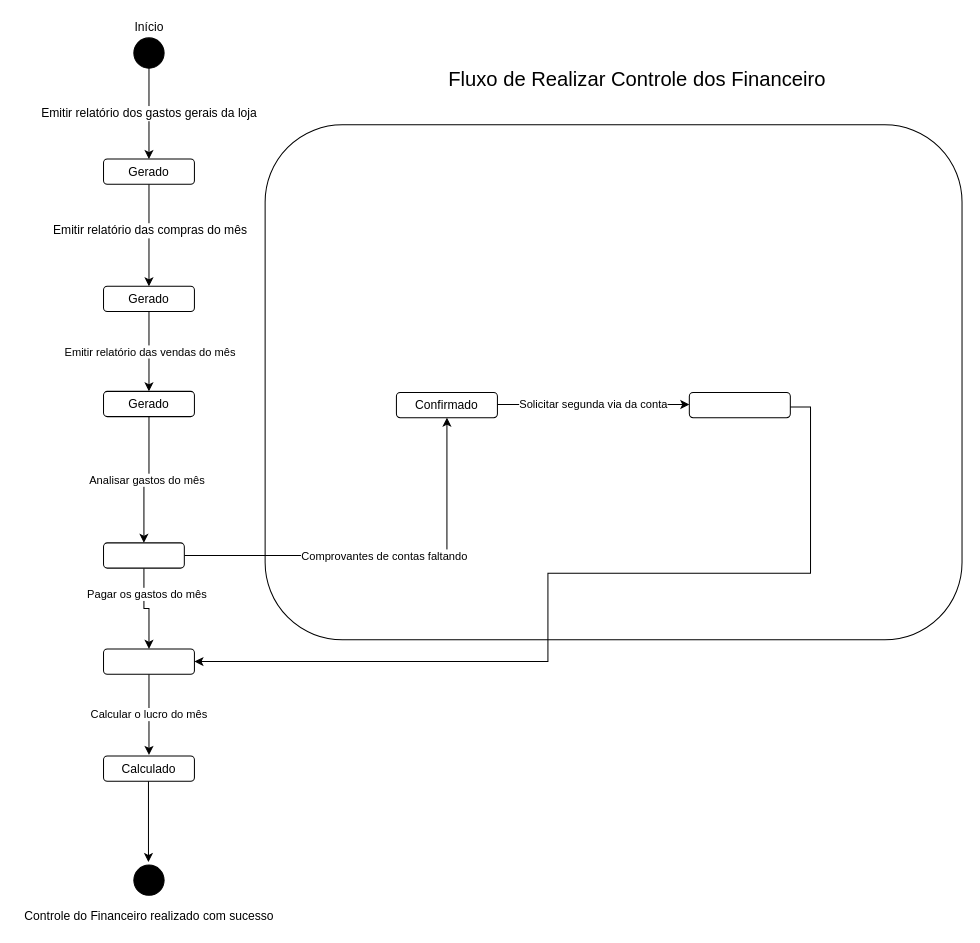
The diagram is 980 pixels wide and 943 high, and some of its shapes have lost their labels. The box of each missing label's shape, as (x1, y1, x2, y2) in pixels:
Analisado: (103, 542, 184, 568)
Pago: (103, 648, 194, 674)
Soliticitado: (688, 391, 790, 418)
